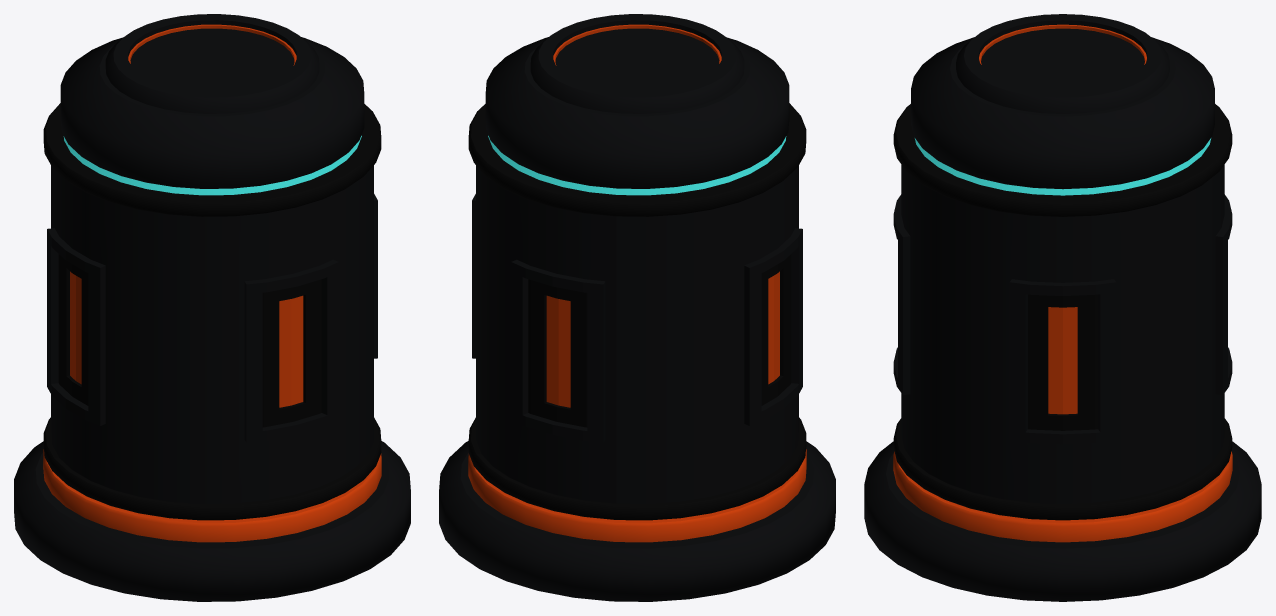
File: SM_Capacitor.obj
3 views of the same model, side by side, from view 1: azimuth 30°, elevation 25°; view 2: azimuth 150°, elevation 25°; view 3: azimuth 270°, elevation 25° (orthographic).
Parts seen in each view (by area): view 1: SM_Capacitor; view 2: SM_Capacitor; view 3: SM_Capacitor.
Part boxes in pixels (box(x1,y1,x2,y2)): SM_Capacitor: box(14, 14, 410, 601); SM_Capacitor: box(439, 14, 835, 601); SM_Capacitor: box(864, 14, 1261, 601).
Bounding box in the file's own units: 1 × 1.28 × 1.
